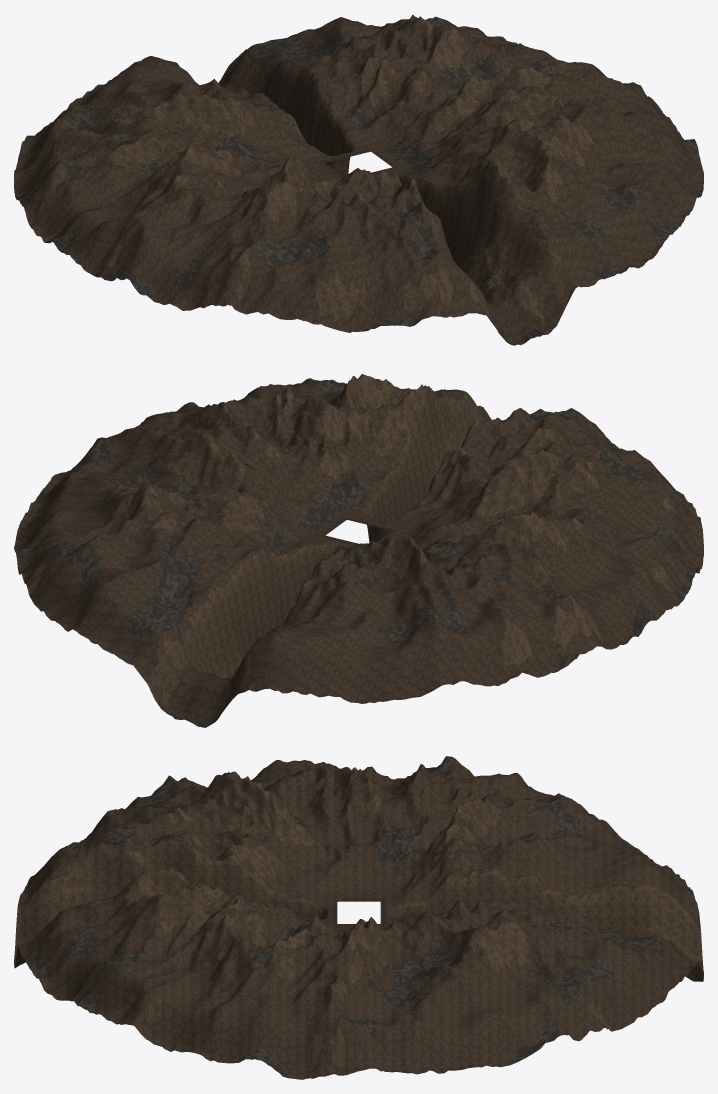
File: backdrop_near_rect_waste_dead.glb
3 renders of one model, top to bottom at view 1: azimuth 30°, elevation 25°; view 2: azimuth 150°, elevation 25°; view 3: azimuth 270°, elevation 25°, orthographic.
Visible parts, largest first — view 1: near_land_S, near_land_W, near_land_E, near_land_N; view 2: near_land_N, near_land_W, near_land_E, near_land_S; view 3: near_land_E, near_land_S, near_land_N, near_land_W.
Part boxes in pixels (bbox=[...]): near_land_S: bbox=[269, 117, 692, 345]; near_land_W: bbox=[14, 93, 340, 314]; near_land_E: bbox=[368, 16, 703, 211]; near_land_N: bbox=[26, 14, 440, 176]; near_land_N: bbox=[26, 499, 448, 727]; near_land_W: bbox=[391, 450, 703, 686]; near_land_E: bbox=[14, 384, 351, 583]; near_land_S: bbox=[278, 374, 687, 542]; near_land_E: bbox=[116, 897, 603, 1079]; near_land_S: bbox=[14, 796, 336, 1023]; near_land_N: bbox=[385, 799, 703, 1031]; near_land_W: bbox=[141, 756, 602, 902].
Bounding box in the file's own units: 576 × 168 × 576.
Materials: 3 (3 with a texture image).
